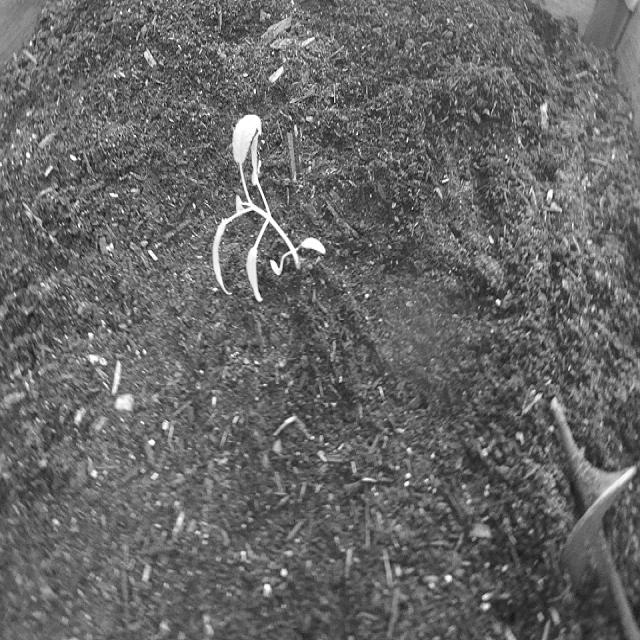Healthy: (203, 94, 334, 310)
